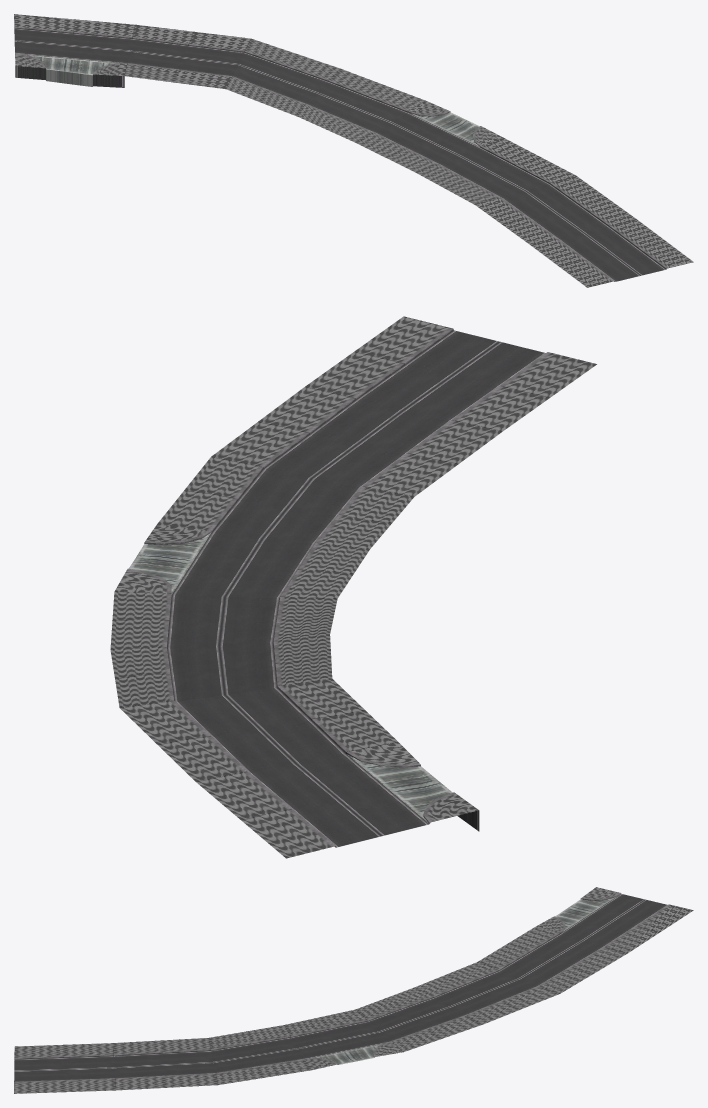
File: lastbit_06b_sfs.obj
3 renders of one model, top to bottom at view 1: azimuth 30°, elevation 25°; view 2: azimuth 150°, elevation 25°; view 3: azimuth 270°, elevation 25°, orthographic. The views are drawn at different scales.
Parts seen in each view (by area): view 1: lastbit_06b_SFS; view 2: lastbit_06b_SFS; view 3: lastbit_06b_SFS.
Boxes of the visible parts, x1,y1,x2,y2 form: lastbit_06b_SFS: (14, 14, 693, 287); lastbit_06b_SFS: (110, 316, 596, 858); lastbit_06b_SFS: (14, 887, 693, 1093).
Bounding box in the file's own units: 65.09 × 8.92 × 117.
Materials: 4 (4 with a texture image).
